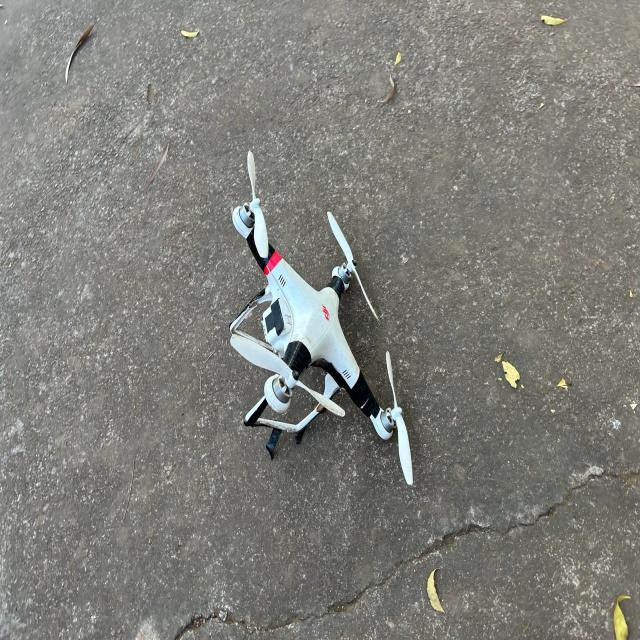drone: (215, 175, 414, 455)
